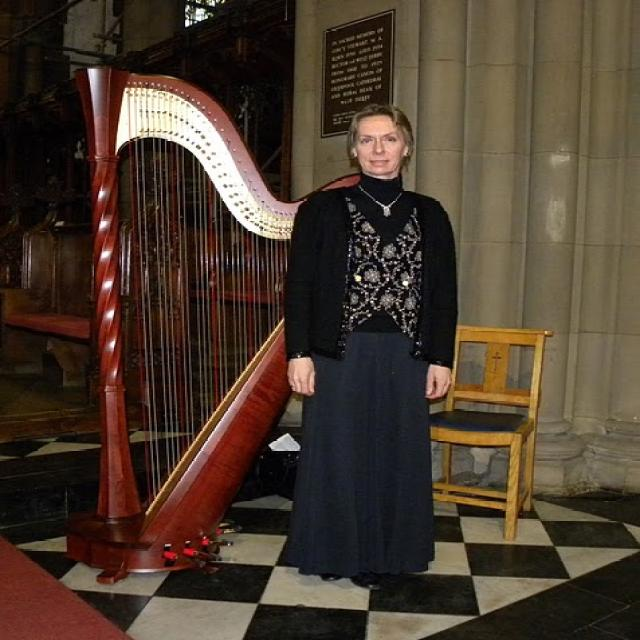harp: (58, 63, 362, 582)
